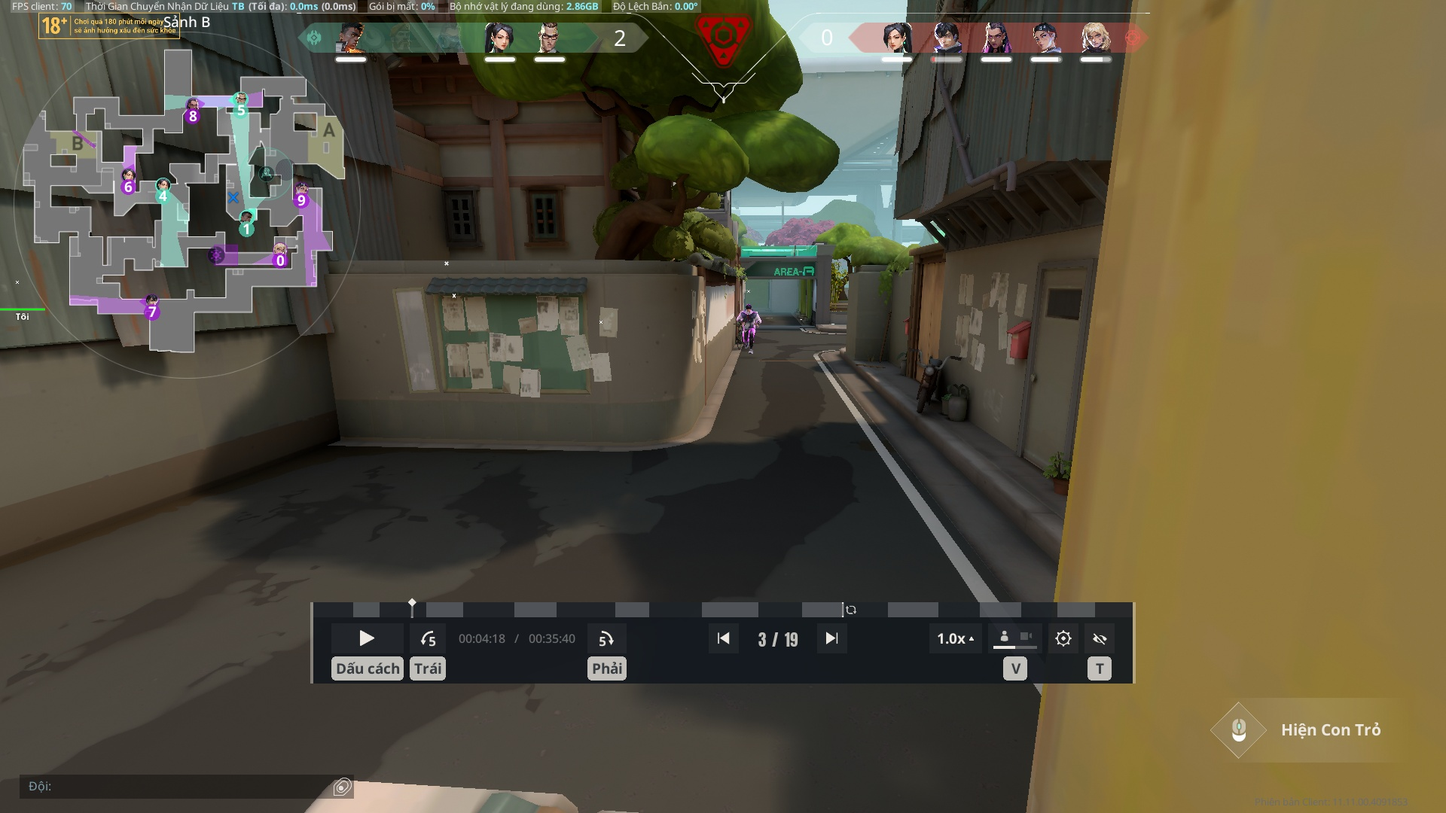body: (740, 309, 757, 329)
head: (745, 304, 751, 312)
